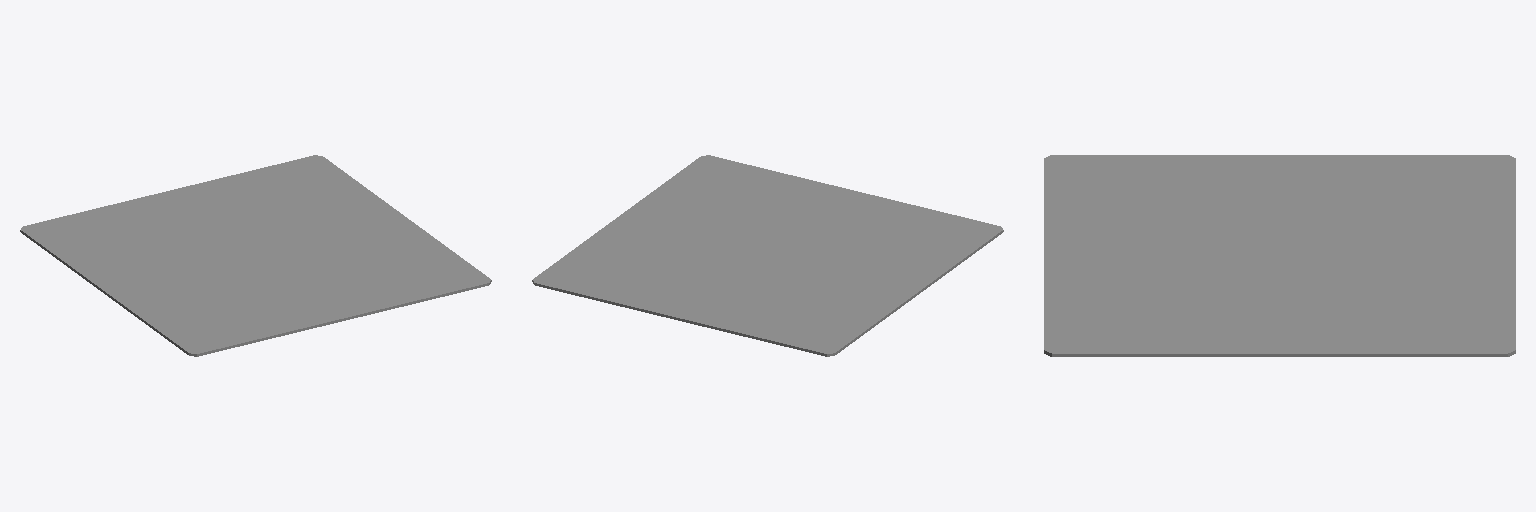
URDF robot description (omuni_nakamura_v9):
<?xml version="1.0" ?>
<!-- =================================================================================== -->
<!-- |    This document was autogenerated by xacro from /home/hao/Ubuntu_3/Robomech/ros2_ws_3_abu2027/src/gazebo_simulator/models/omuni_nakamura_v9/urdf/omuni_nakamura_v9.xacro | -->
<!-- |    EDITING THIS FILE BY HAND IS NOT RECOMMENDED                                 | -->
<!-- =================================================================================== -->
<robot name="omuni_nakamura_v9">
  <material name="silver_default">
    <color rgba="0.700 0.700 0.700 1.000"/>
  </material>
  <material name="_">
    <color rgba="0.6274509803921569 0.6274509803921569 0.6274509803921569 1.0"/>
  </material>
  <link name="base_link">
    <inertial>
      <origin rpy="0 0 0" xyz="4.044445588762326e-17 0.0 0.0025"/>
      <mass value="14.122150000000003"/>
      <inertia ixx="0.423238" ixy="0.0" ixz="0.0" iyy="0.423238" iyz="0.0" izz="0.846418"/>
    </inertial>
    <visual>
      <origin rpy="0 0 0" xyz="0 0 0"/>
      <geometry>
        <mesh filename="package://omuni_nakamura_v9/meshes/base_link.stl" scale="0.001 0.001 0.001"/>
      </geometry>
      <material name="_"/>
    </visual>
    <collision>
      <origin rpy="0 0 0" xyz="0 0 0"/>
      <geometry>
        <mesh filename="package://omuni_nakamura_v9/meshes/base_link.stl" scale="0.001 0.001 0.001"/>
      </geometry>
    </collision>
  </link>
  <!-- ros2_control plugin config (keep velocity interfaces compatible with existing controllers) -->
  <ros2_control name="GazeboSystem" type="system">
    <hardware>
      <plugin>gz_ros2_control/GazeboSimSystem</plugin>
    </hardware>
  </ros2_control>
  <gazebo>
    <plugin filename="libgz_ros2_control-system.so" name="gz_ros2_control::GazeboSimROS2ControlPlugin">
      <parameters>/home/hao/Ubuntu_3/Robomech/ros2_ws_3_abu2027/install/gazebo_simulator/share/gazebo_simulator/config/controller_omuni_nakamura_v9.yaml</parameters>
    </plugin>
  </gazebo>
  <gazebo>
    <plugin filename="libgz-sim-pose-publisher-system.so" name="gz::sim::systems::PosePublisher">
      <publish_link_pose>true</publish_link_pose>
      <publish_model_pose>true</publish_model_pose>
      <use_pose_vector_msg>true</use_pose_vector_msg>
      <update_frequency>50</update_frequency>
    </plugin>
  </gazebo>
</robot>

--- Render facts (derived) ---
Views: 3 orthographic renders of the robot side by side, from view 1: azimuth 30°, elevation 25°; view 2: azimuth 150°, elevation 25°; view 3: azimuth 270°, elevation 25°.
Robot: omuni_nakamura_v9 — 1 links, 0 joints (none); root link base_link; default pose: every joint at zero.
Links seen in each view (by area): view 1: base_link; view 2: base_link; view 3: base_link.
Boxes of the visible links, x1,y1,x2,y2 form: base_link: [20, 155, 491, 356]; base_link: [532, 155, 1003, 356]; base_link: [1044, 155, 1515, 356].
Bounding box of the posed robot: 0.6 × 0.6 × 0.005 m (x, y, z).
Meshes: 1 distinct files referenced, 1 mesh visuals loaded (1 binary STL).
